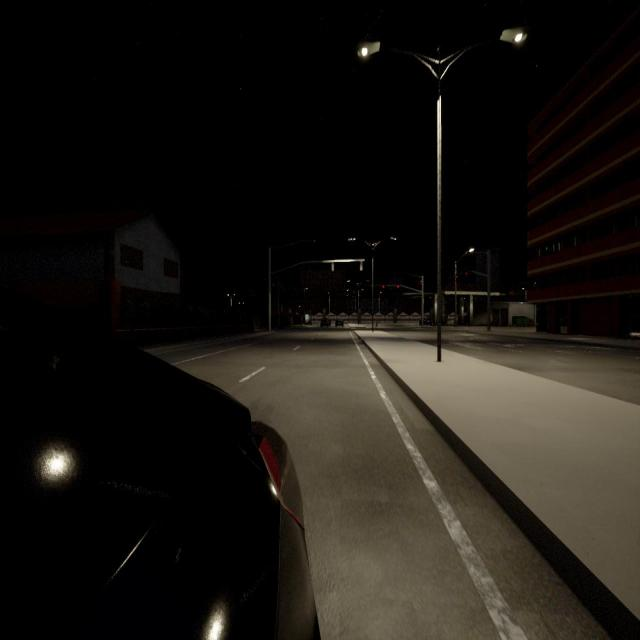Vehicle: (0, 295, 312, 640), (420, 318, 432, 325), (320, 319, 330, 327), (336, 320, 344, 327)
traffic_light: (360, 262, 363, 270), (332, 263, 334, 271), (382, 285, 384, 288), (397, 285, 399, 288), (456, 275, 458, 278), (466, 272, 468, 275)
